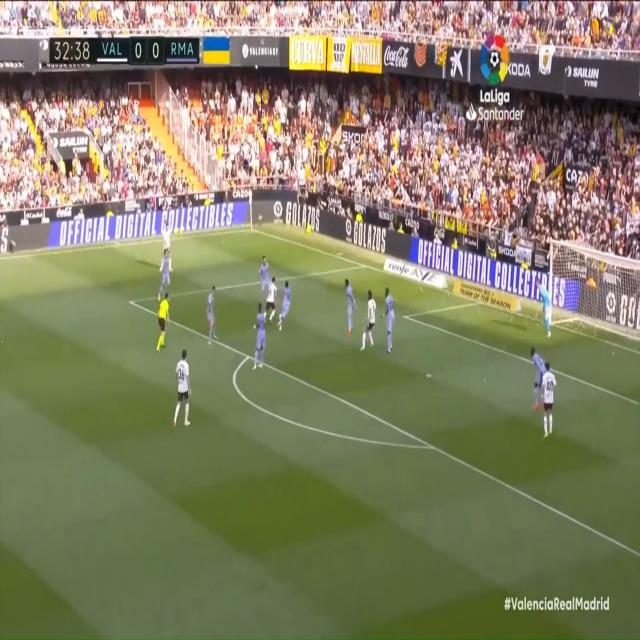goalkeeper: (534, 281, 556, 341)
player: (171, 350, 197, 438), (380, 278, 398, 361), (541, 364, 559, 441), (341, 272, 361, 341), (363, 287, 379, 358), (278, 276, 294, 344), (206, 280, 220, 357), (528, 345, 544, 412), (161, 241, 176, 304), (253, 300, 264, 377), (265, 275, 278, 330), (257, 255, 271, 305), (162, 222, 174, 271)
referee: (154, 290, 175, 364)
